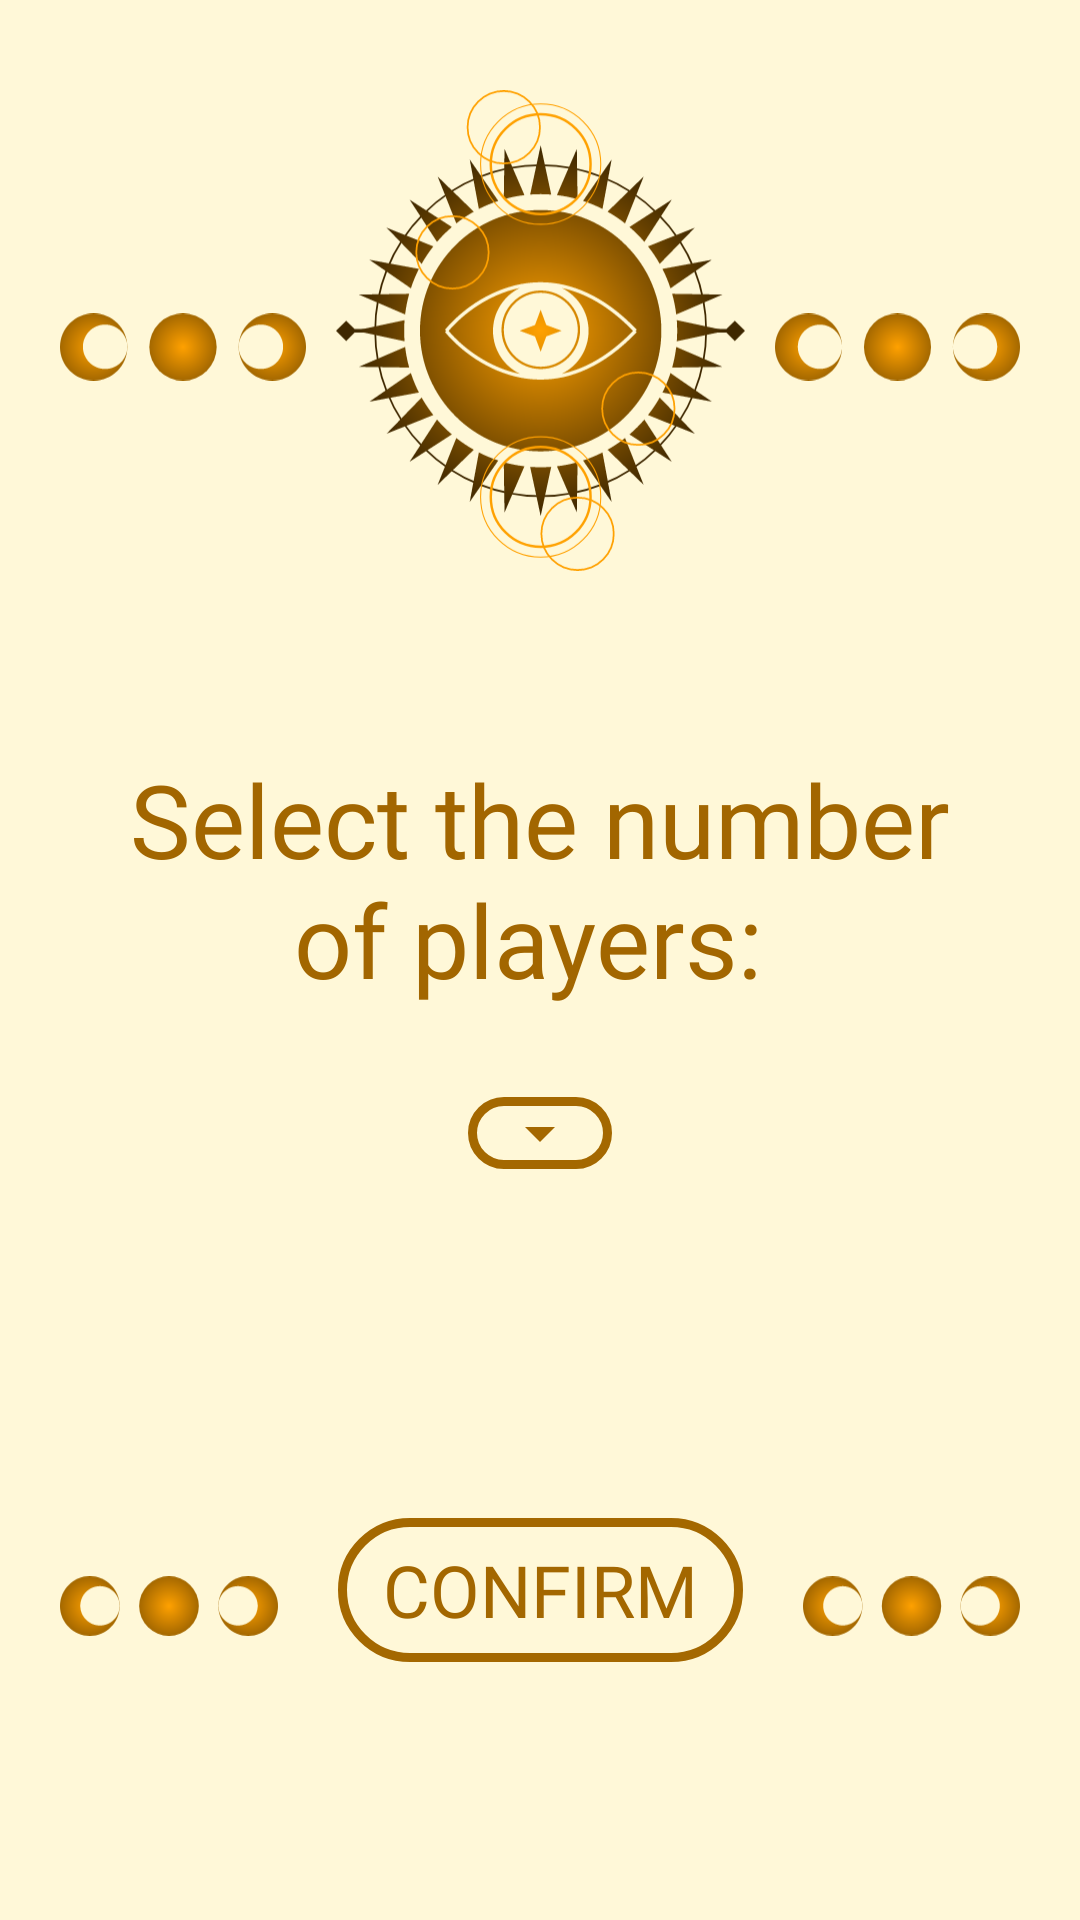

Icon click points for this 1080w x 1920h phone screenshot, format (x=x, y=y):
moon phases: (x=183, y=347), (x=897, y=347), (x=169, y=1606), (x=911, y=1606)
